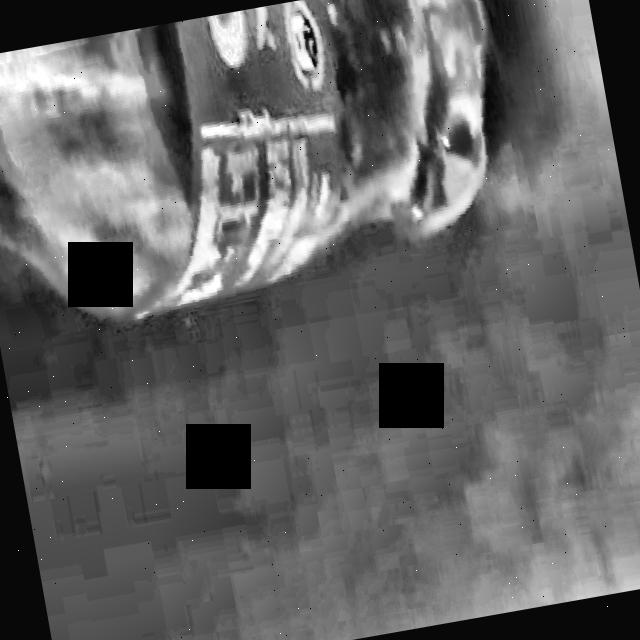bottle: (0, 0, 491, 322)
